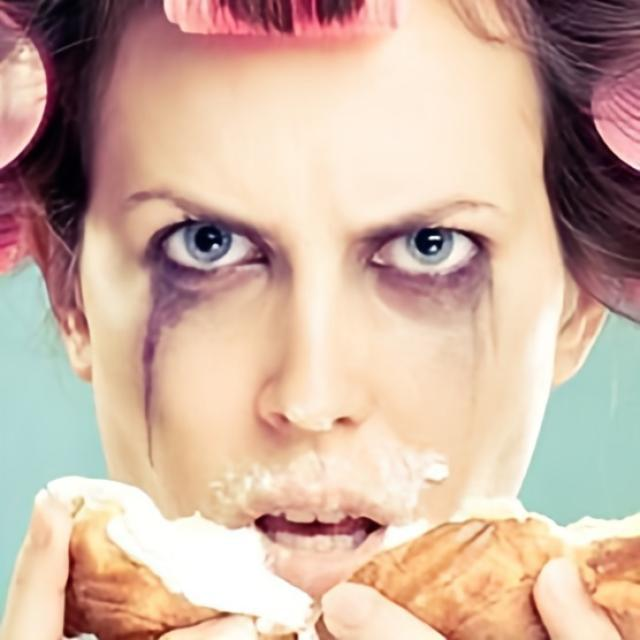anger: (88, 23, 551, 623)
